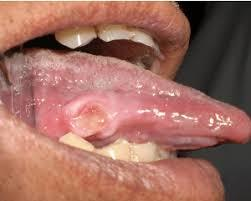Ulcer: (66, 98, 120, 137)
